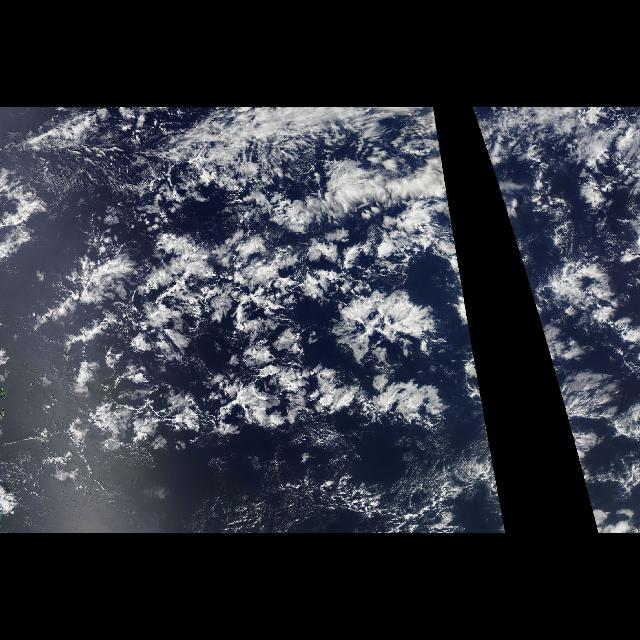Flower: (200, 316, 476, 452)
